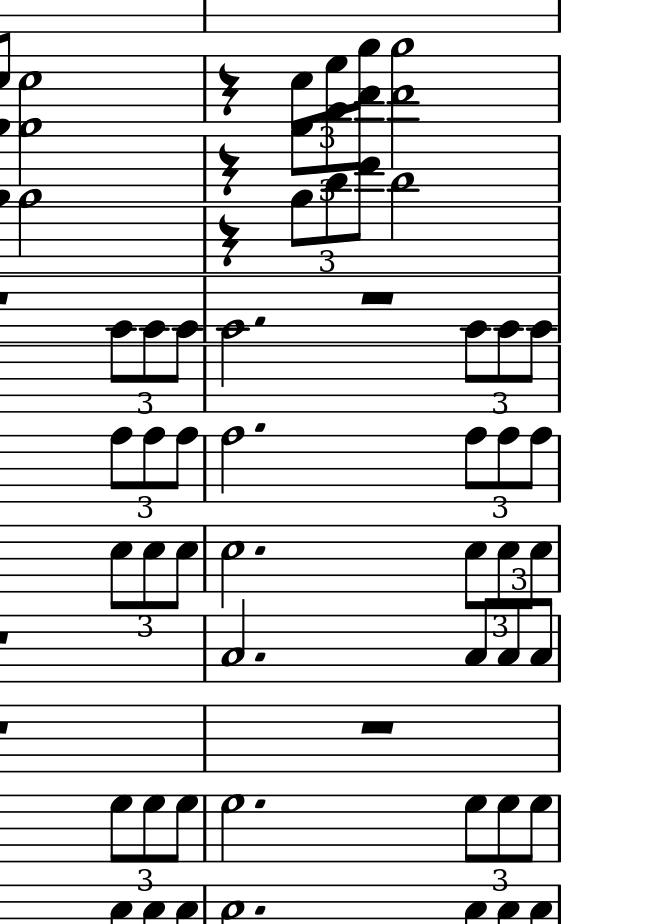2_3: (221, 598, 247, 683)
2_5: (219, 524, 247, 605)
2_7: (221, 793, 244, 863)
2_8: (215, 421, 244, 510)
3: (489, 494, 508, 523), (490, 390, 510, 415)
8_5: (108, 523, 134, 609), (140, 524, 166, 609), (172, 525, 198, 608)
8_7: (169, 794, 199, 864), (525, 793, 553, 862), (495, 794, 521, 864), (463, 795, 488, 864), (109, 794, 132, 864), (142, 794, 164, 863)
8_8: (523, 426, 555, 502), (173, 426, 198, 504), (462, 426, 487, 503), (497, 426, 521, 503), (109, 426, 132, 503), (142, 427, 165, 504)
Rests1: (355, 288, 398, 308), (357, 716, 398, 736)
Rests4: (217, 212, 241, 270), (216, 64, 239, 117), (219, 143, 241, 195)
Single_barline: (548, 275, 573, 343), (549, 207, 575, 272), (196, 206, 220, 273), (550, 794, 572, 861), (551, 615, 572, 684), (550, 525, 570, 592), (548, 346, 568, 412), (552, 432, 569, 506), (549, 135, 567, 204), (551, 706, 568, 772), (198, 434, 214, 504), (199, 797, 214, 857), (554, 55, 567, 123), (199, 348, 212, 415), (197, 618, 212, 674), (197, 707, 211, 766), (198, 529, 212, 586), (198, 59, 211, 117), (198, 884, 211, 924), (553, 887, 566, 924), (553, 1, 565, 34), (199, 1, 209, 32)
dot: (253, 314, 266, 329)
